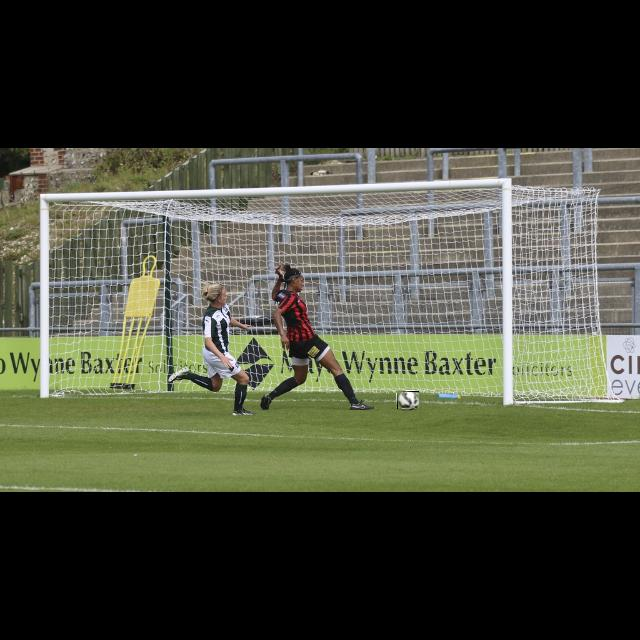Football: (397, 391, 419, 409)
